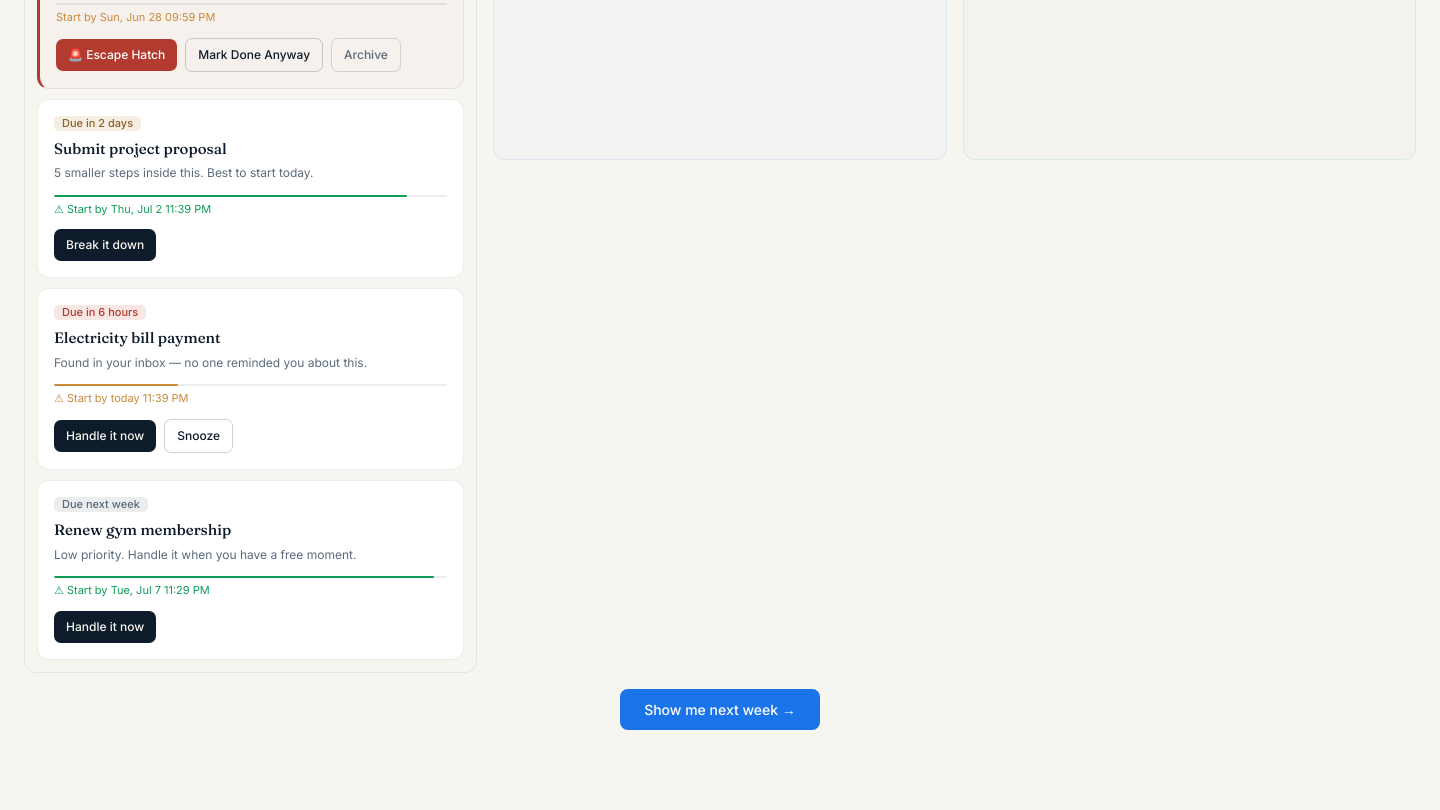
Test case: Module 30: Conditional Snooze Button › Clicking Snooze updates pillText to "Snoozed — due tomorrow"
(page scrolled)
Click the button "Snooze": click(199, 436) 164,419 -> 233,453
(page scrolled)
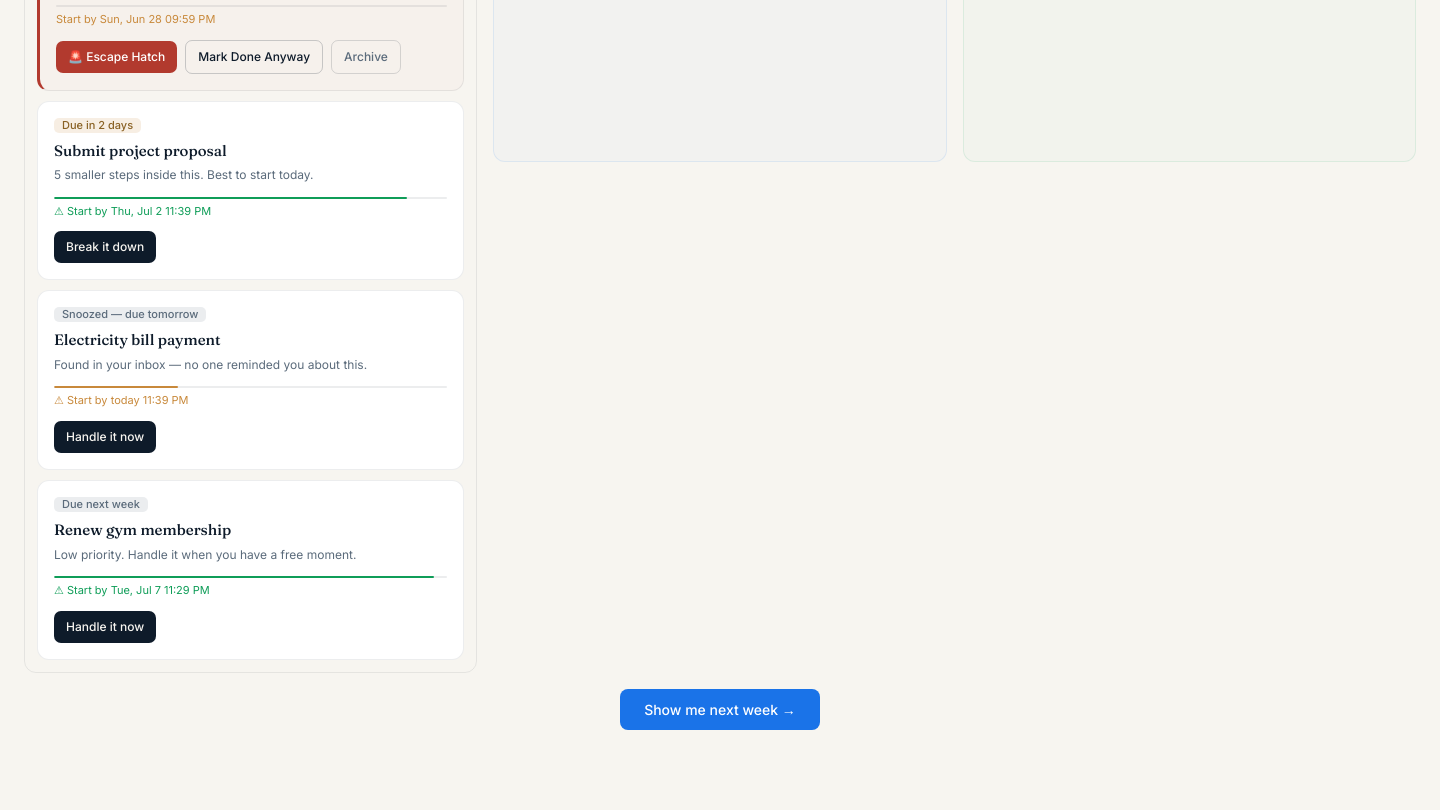
Now the text "Snoozed — due tomorrow" is shown, box 54,307 -> 206,322
